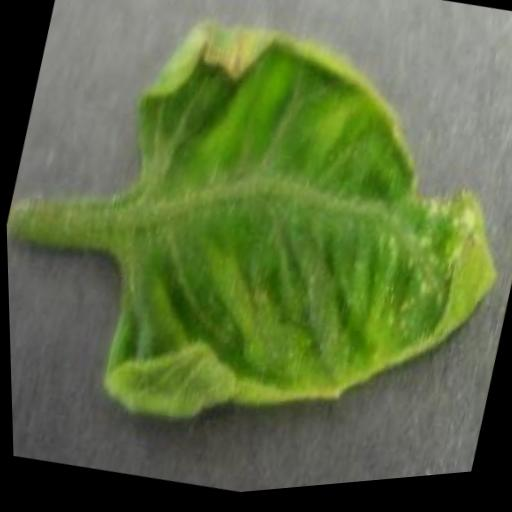Yellow Leaf Curl Virus: (64, 0, 512, 498)
